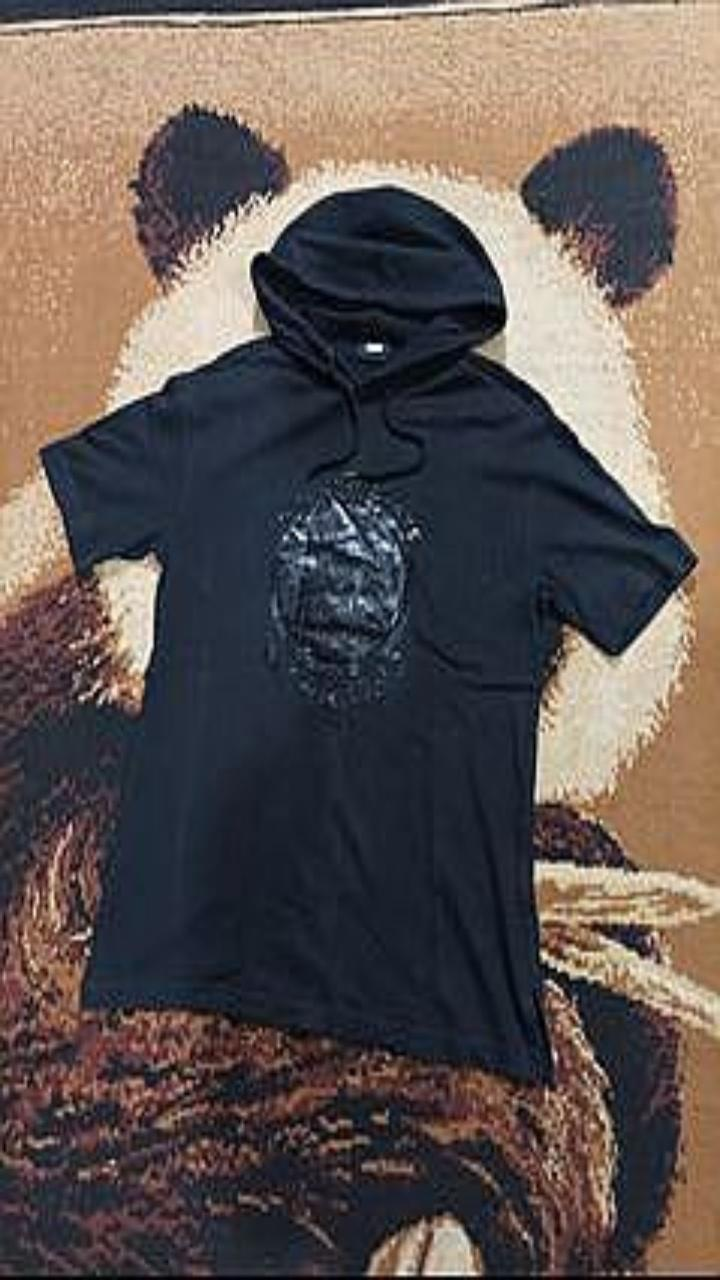Hoodie: (250, 183, 506, 478)
T-Shirt: (40, 184, 696, 1083)
